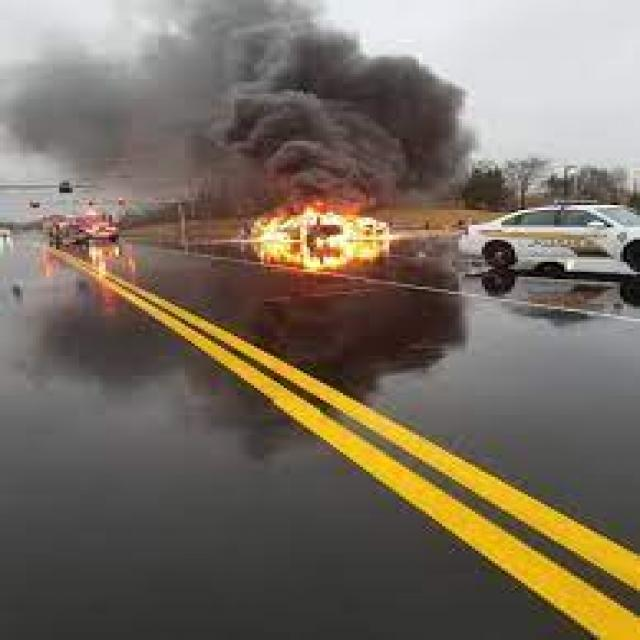fire: (240, 208, 392, 237)
smoke: (3, 2, 343, 188), (195, 15, 475, 210)
